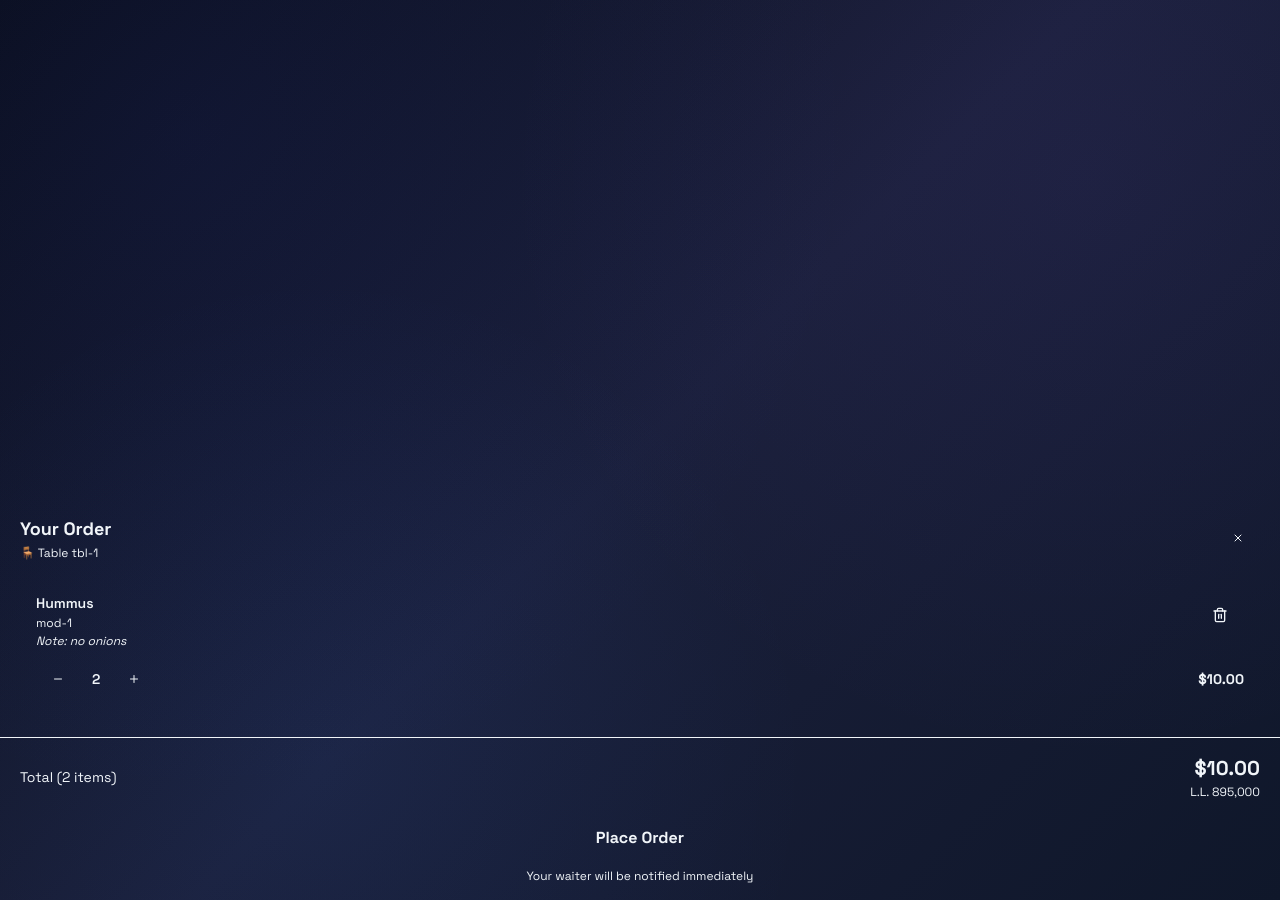
Test: QRCart › a bundle-related RPC error renders the mapped combo-specific message, not the generic fallback
This screenshot has width=1280, height=900.
Click the button "Place Order" at [640, 838], box [20, 816, 1260, 860]
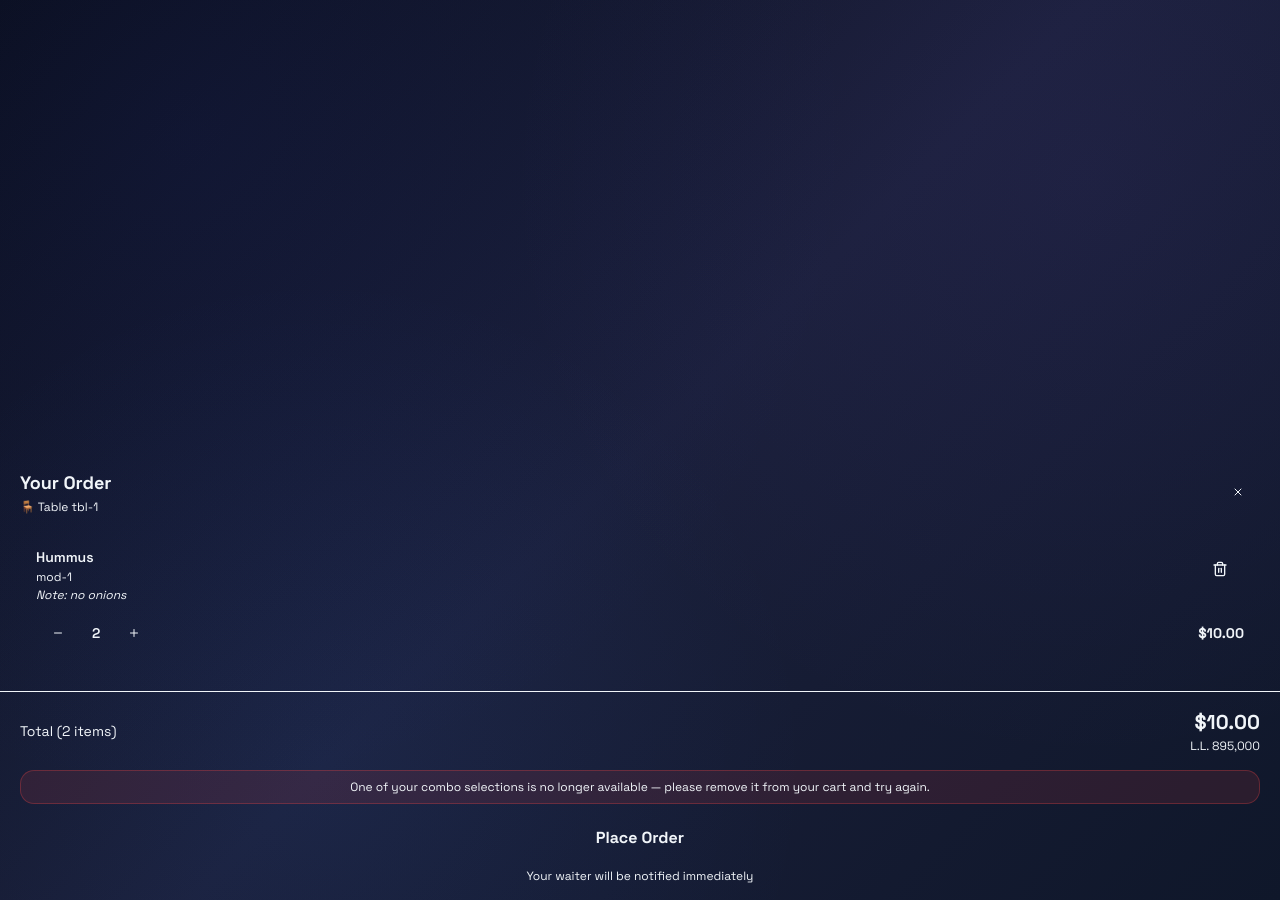
Result: the text "One of your combo selections" is shown at [350, 779, 930, 795]
